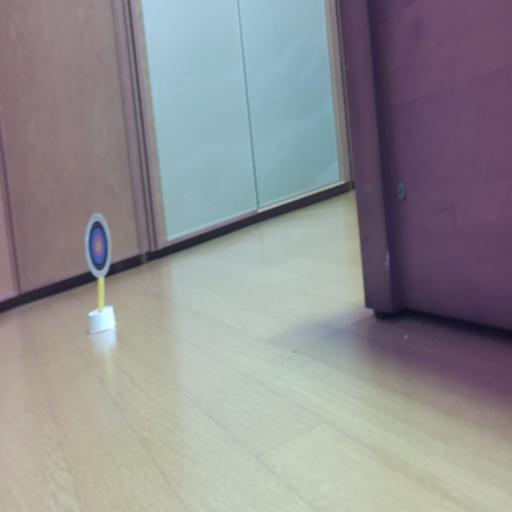target: (85, 213, 112, 277)
